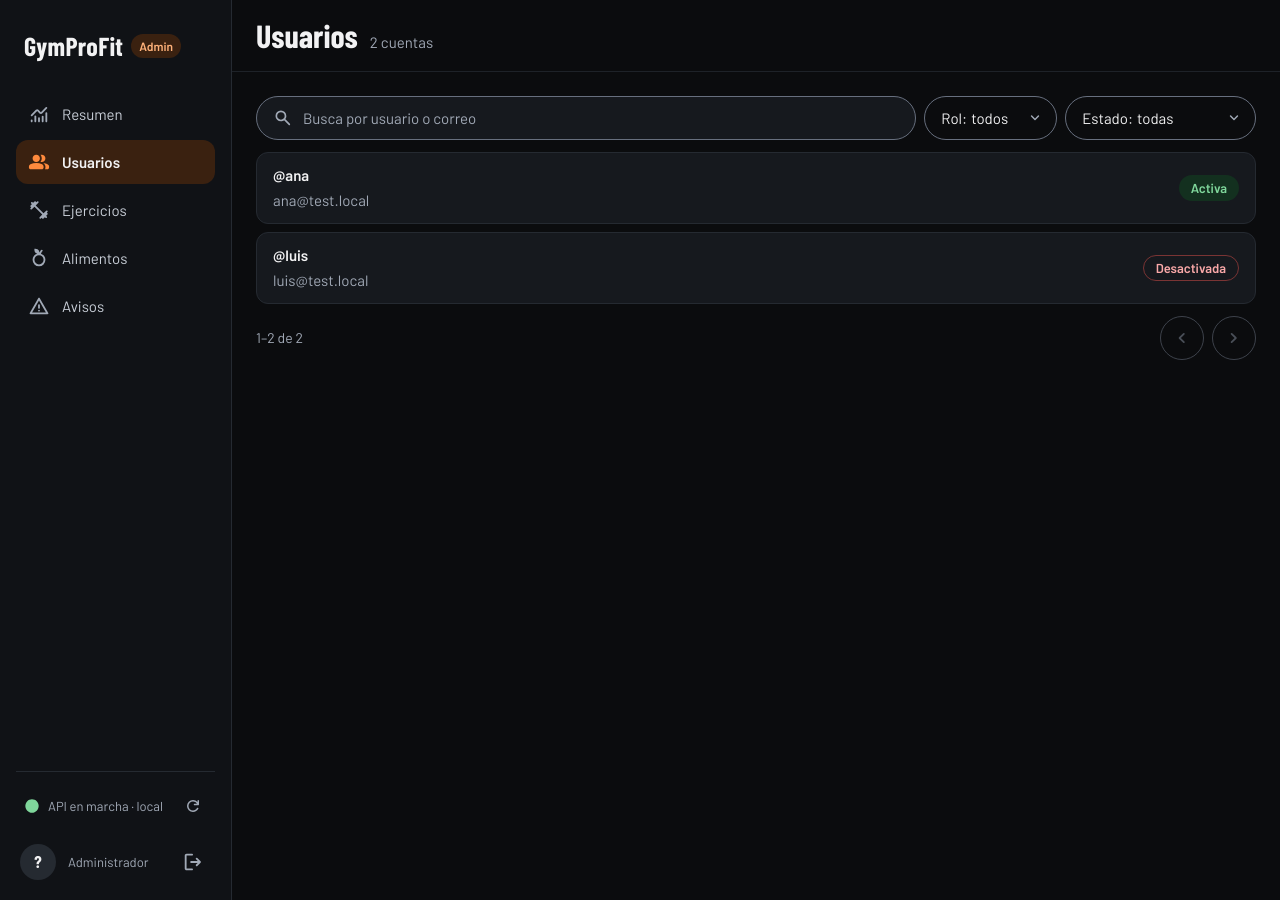
Usuarios en el móvil › la ficha se cierra con «Volver»
The image size is (1280, 900).
Step 1. Click the button "@ana ana@test.local Activa" → (321, 200), box [256, 152, 1256, 224]
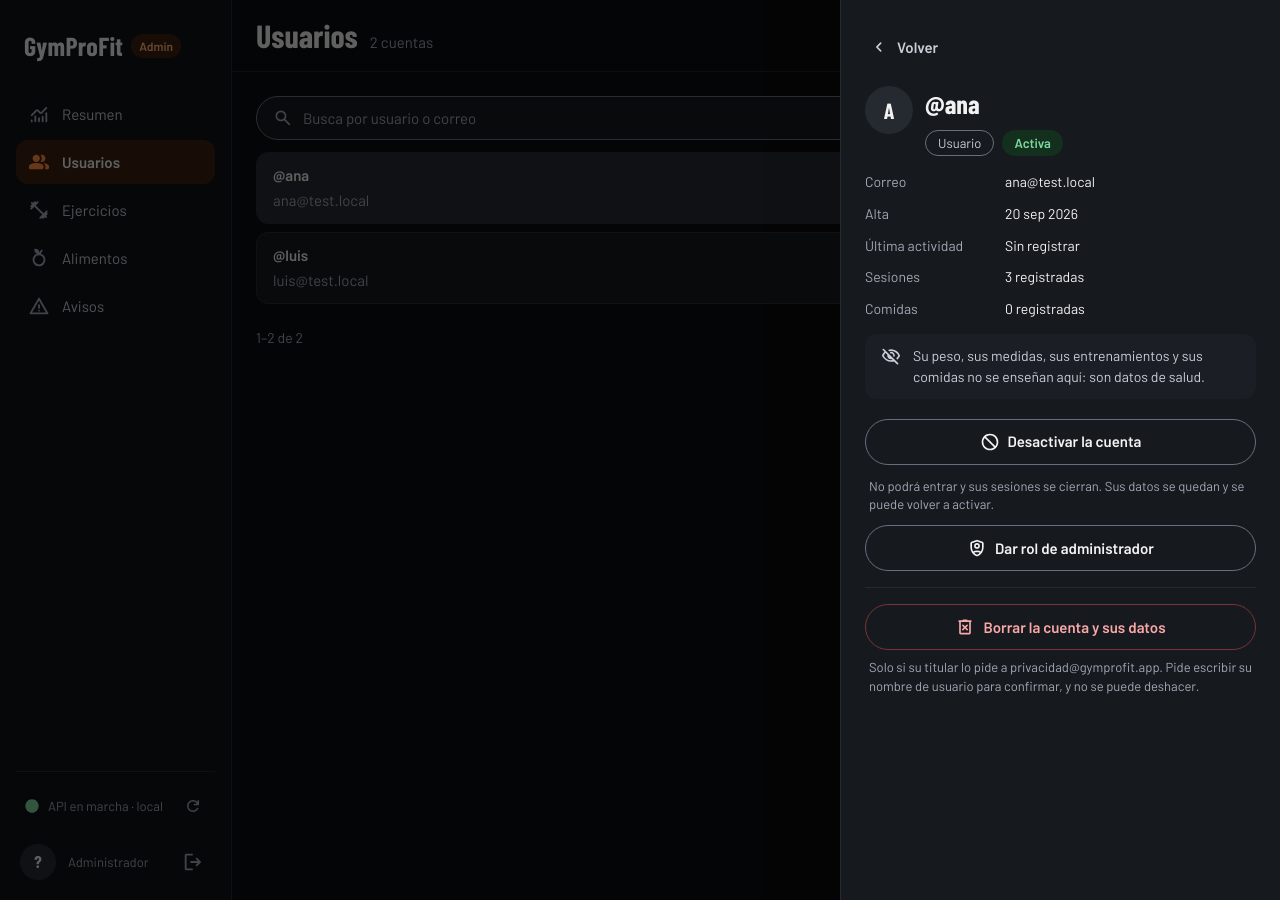
Step 2. Click the button "Volver" → (908, 47), box [865, 24, 950, 70]
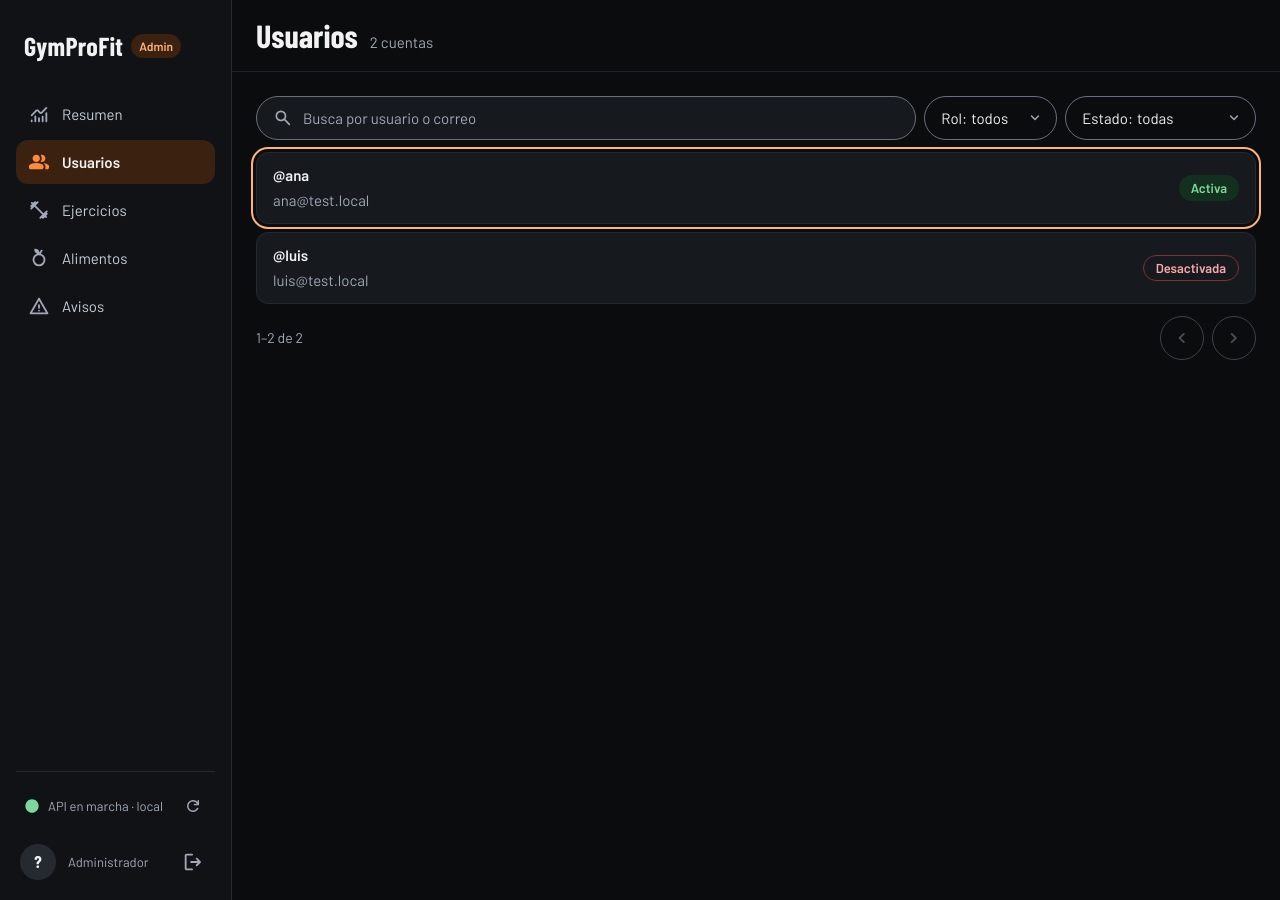
expect the dialog is gone: met
